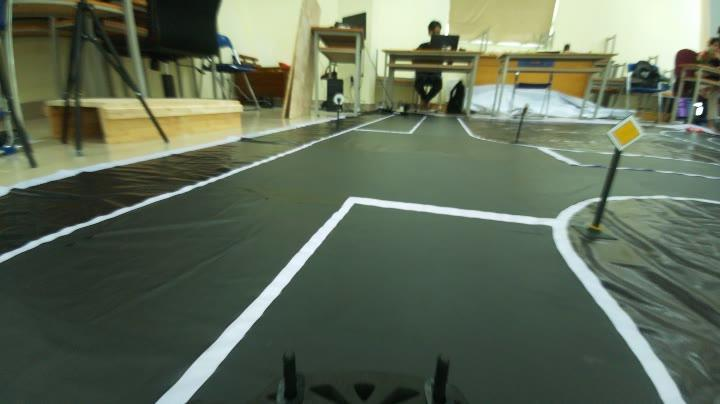priority: (602, 109, 644, 154)
